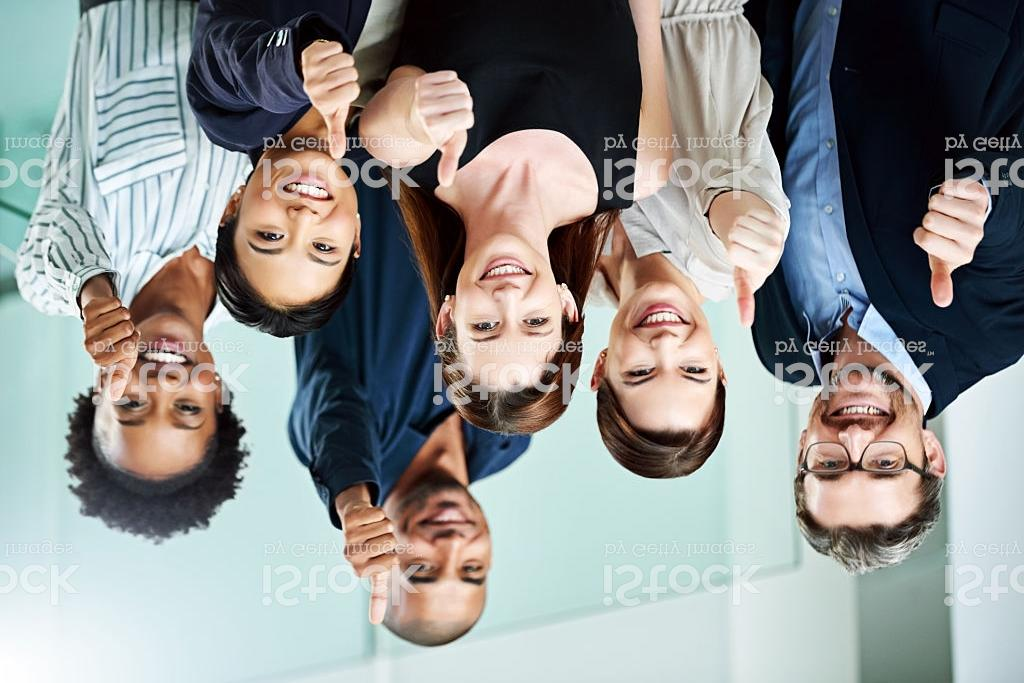thumbsdown: (908, 175, 991, 309), (341, 501, 403, 627), (725, 207, 787, 329), (414, 66, 475, 188), (302, 37, 362, 161), (82, 295, 142, 403)
